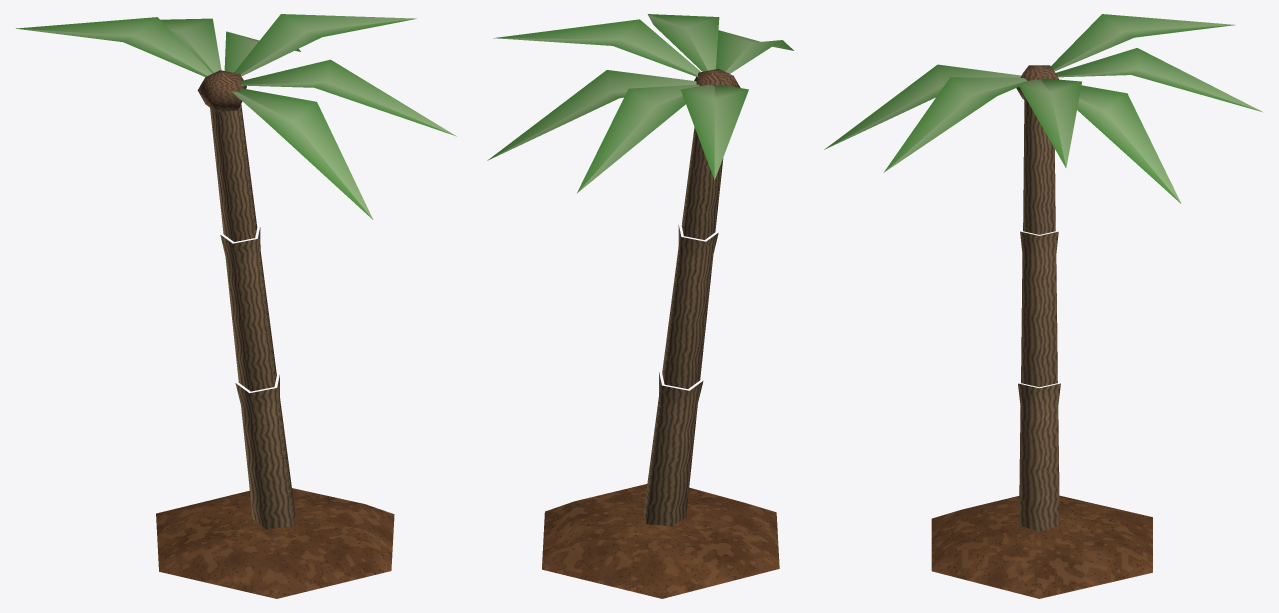
File: plant-coconut-2-far.glb
3 renders of one model, left to right at view 1: azimuth 30°, elevation 25°; view 2: azimuth 150°, elevation 25°; view 3: azimuth 270°, elevation 25°, orthographic. The views are drawn at different scales.
Parts seen in each view (by area): view 1: plant-coconut-2-far; view 2: plant-coconut-2-far; view 3: plant-coconut-2-far.
Part boxes in pixels (left/top/right/bottom): plant-coconut-2-far: left=16, top=14, right=456, bottom=598; plant-coconut-2-far: left=487, top=14, right=793, bottom=598; plant-coconut-2-far: left=824, top=14, right=1263, bottom=598.
Size of the model in its own units: 1.33 by 2.05 by 1.73.
Materials: 3 (2 with a texture image).
